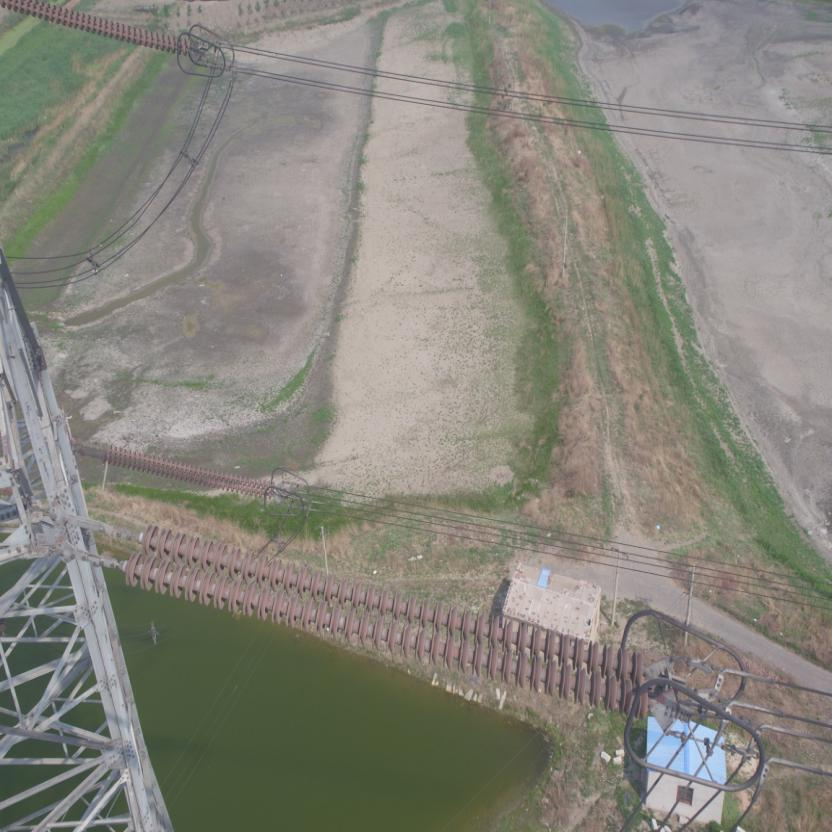insulator: (86, 517, 662, 724), (0, 0, 196, 58), (96, 442, 278, 497)
